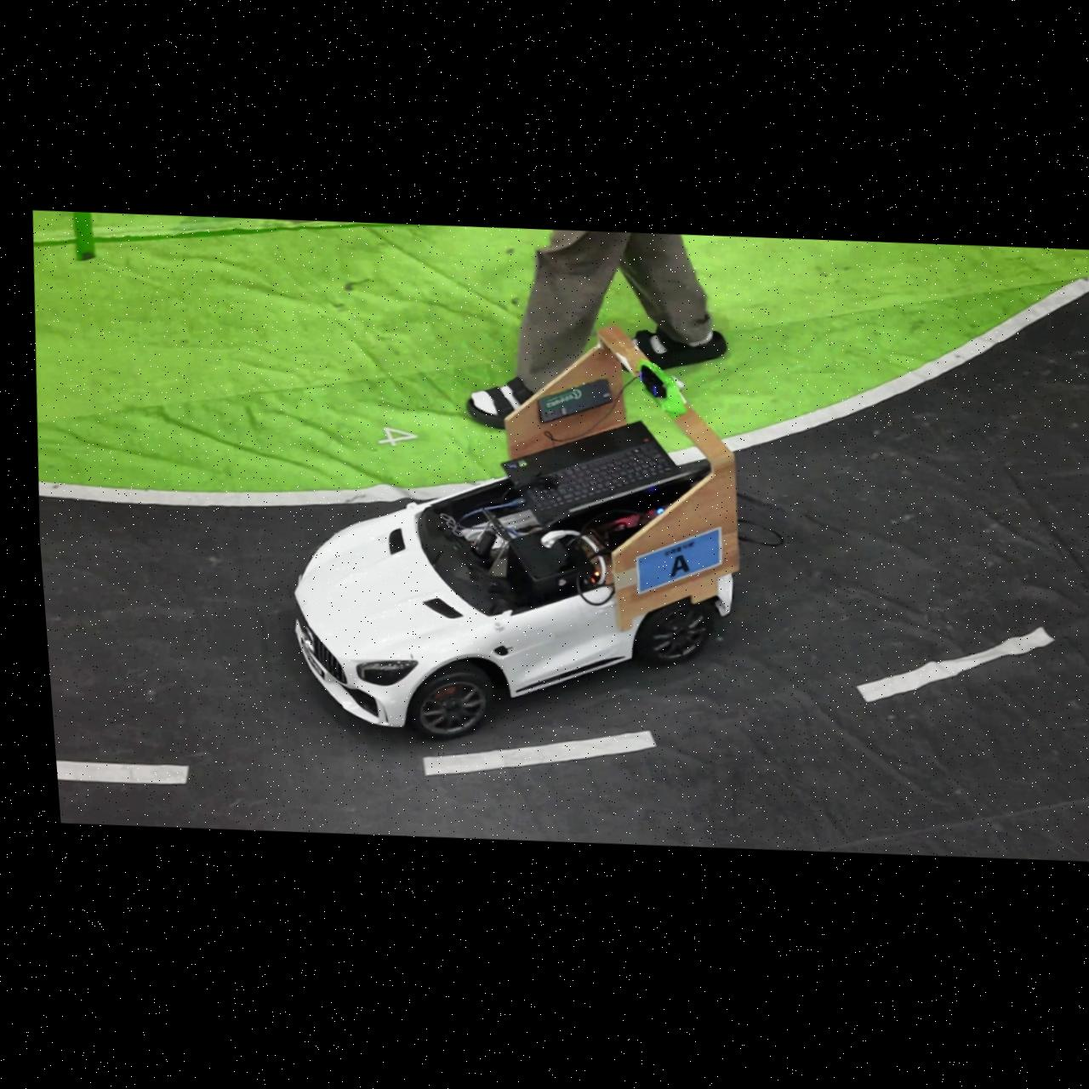broken_line: (857, 627, 1054, 701), (424, 730, 655, 775), (56, 760, 189, 784)
